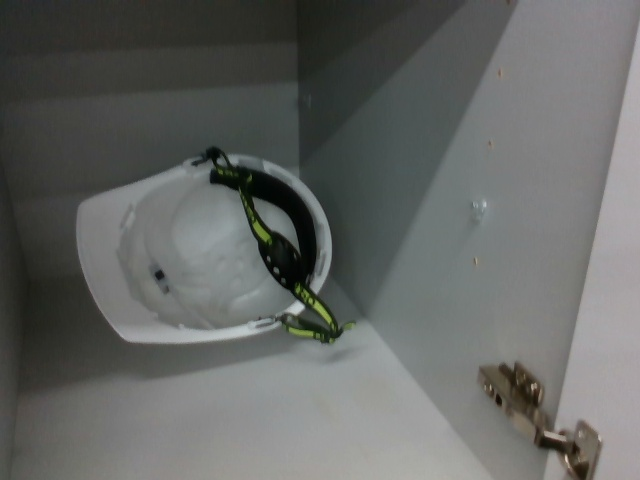helmet: (66, 144, 341, 352)
